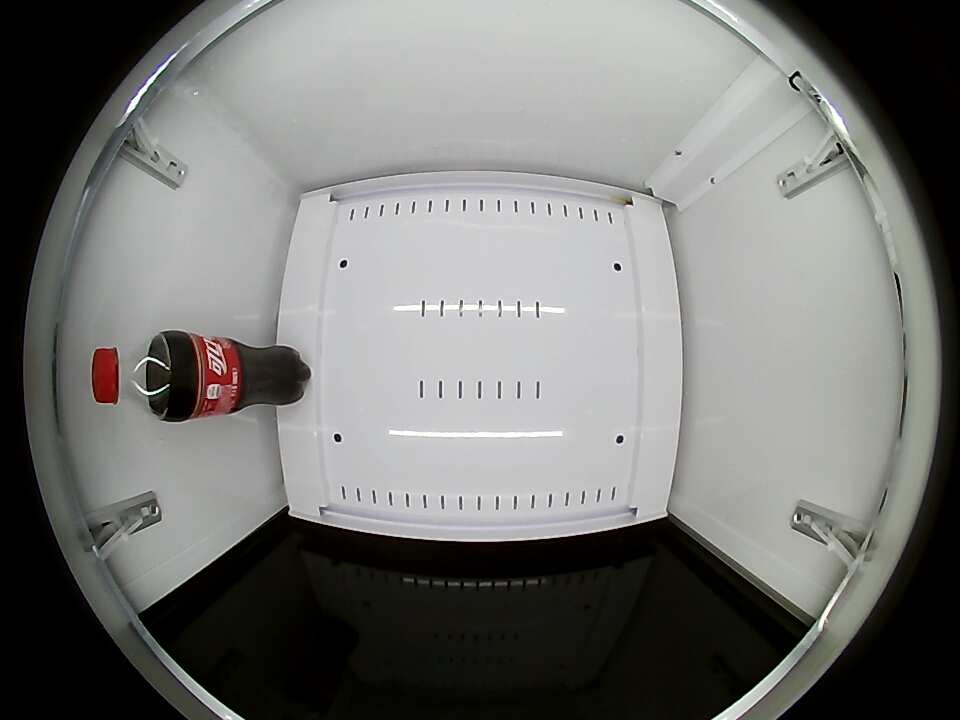kele-b: (91, 334, 175, 417)
